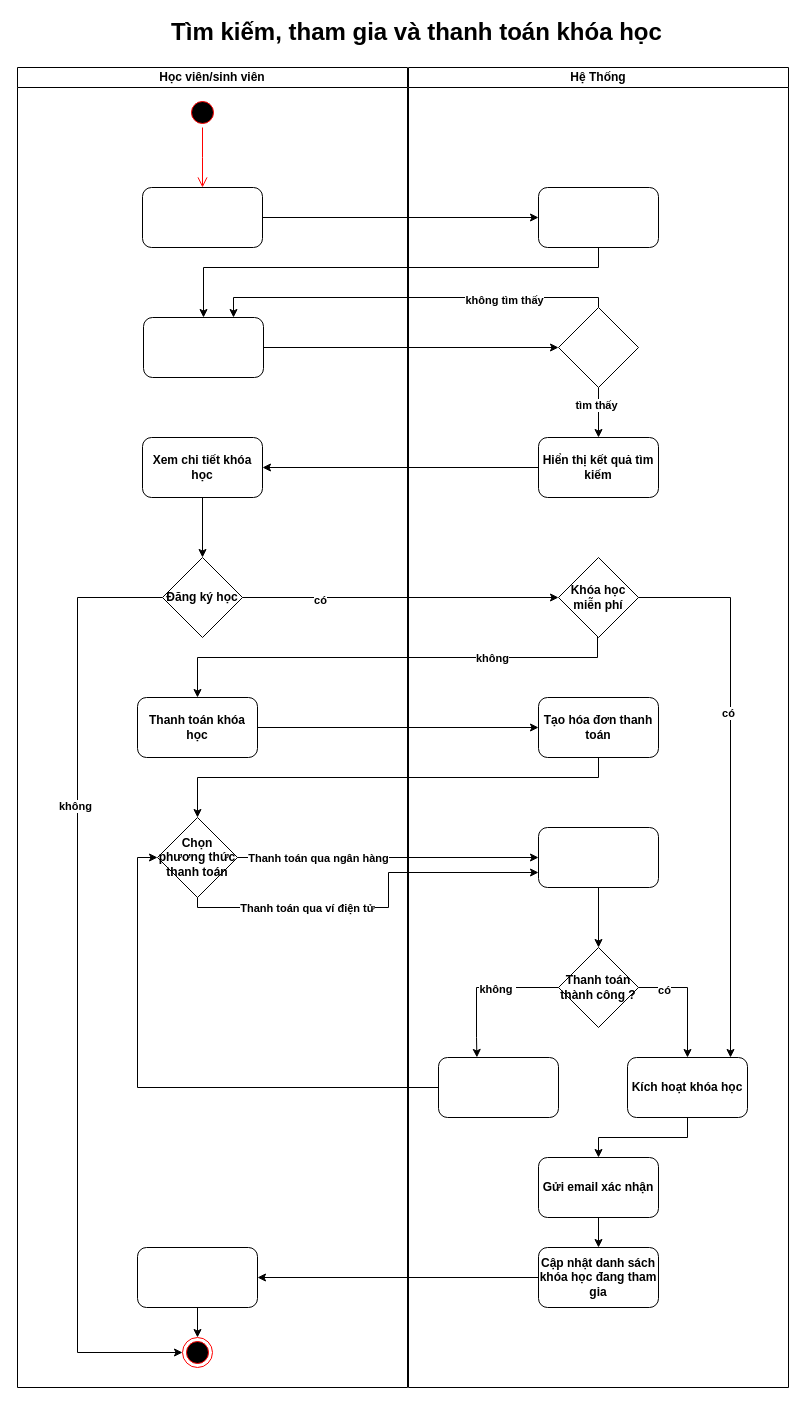
Some shapes in this 806 by 1405 pixel diagram are drawn without their labels. The shapes that lost their labels are listed below. From the top down, each one's box as (x1, y1, x2, y2) in pixels, then its label:
(142, 186, 262, 248): Truy cập danh sách khóa học
(538, 186, 658, 248): Hiển thị form tìm kiếm khóa học
(142, 316, 264, 378): Tìm kiếm khóa học theo từ khóa hoặc bộ lọc
(558, 306, 638, 388): Lọc theo từ khóa hoặc bộ lọc
(538, 826, 658, 888): Xử lý giao dịch thanh toán
(438, 1056, 558, 1118): Thông báo lỗi
(136, 1246, 258, 1308): Truy cập nội dung khóa học
